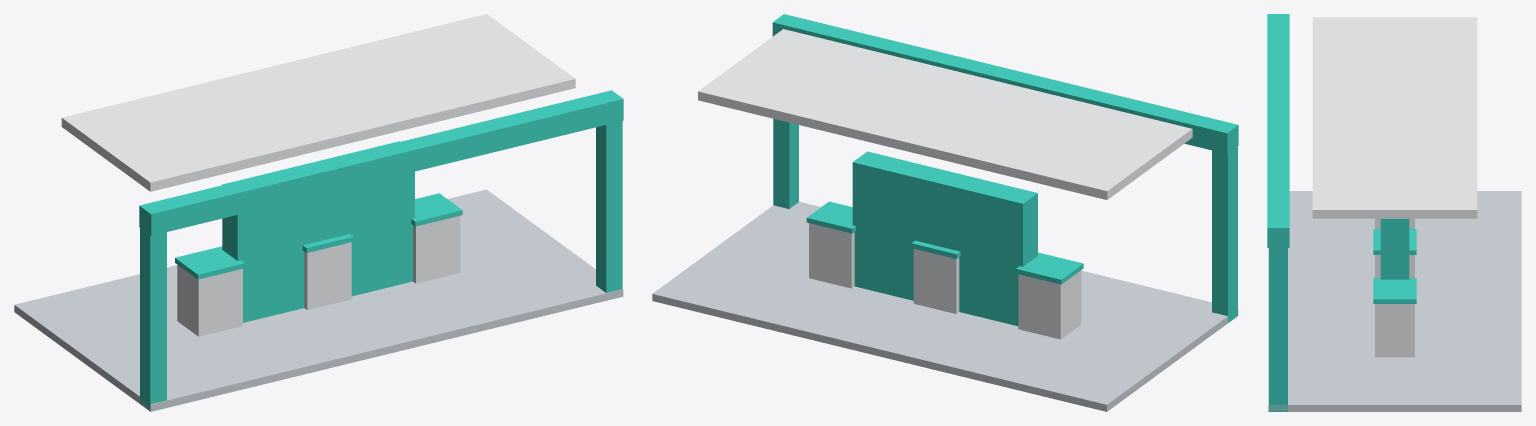
3 renders of one model, left to right at view 1: azimuth 30°, elevation 25°; view 2: azimuth 150°, elevation 25°; view 3: azimuth 270°, elevation 25°, orthographic. The views are drawn at different scales.
Visible parts, largest first — view 1: Exhibition Booth Concept; view 2: Exhibition Booth Concept; view 3: Exhibition Booth Concept.
Part boxes in pixels (box(x1,y1,x2,y2)): Exhibition Booth Concept: box(14, 14, 623, 411); Exhibition Booth Concept: box(652, 14, 1238, 411); Exhibition Booth Concept: box(1267, 14, 1521, 411).
Size of the model in its own units: 8 by 3.34 by 4.02.
